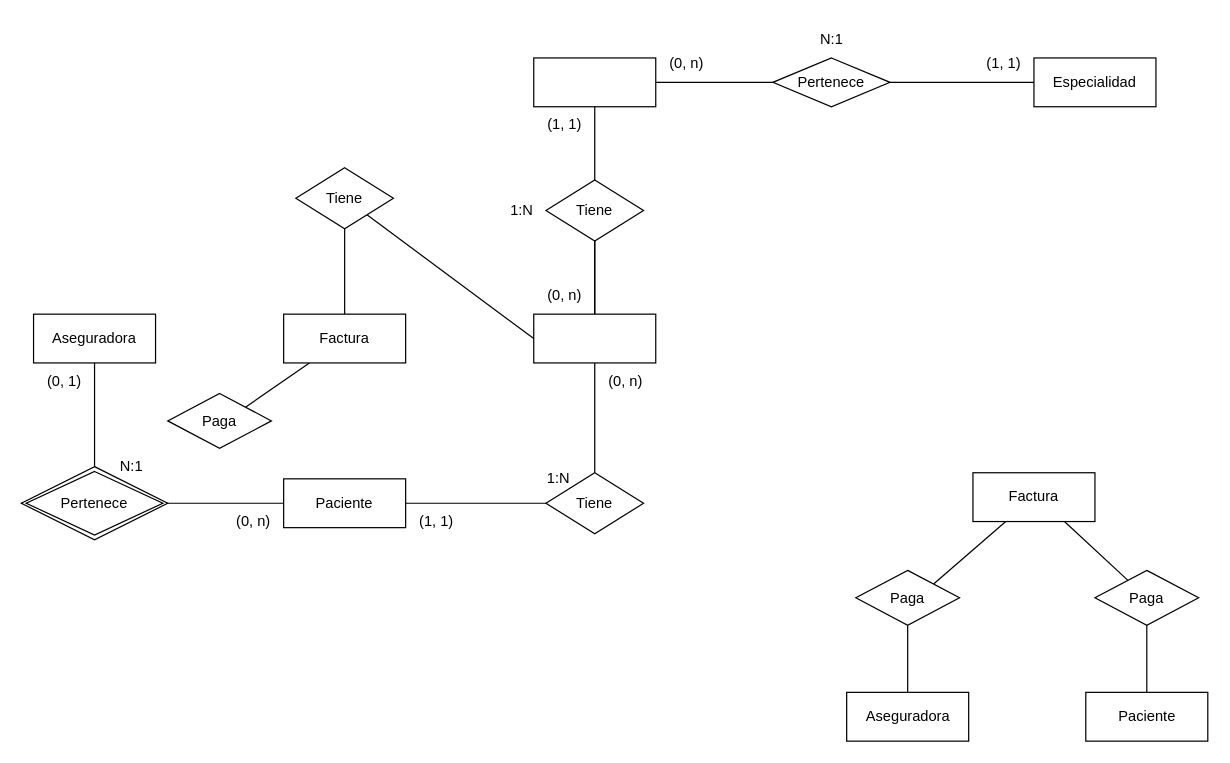
The diagram is 1230 pixels wide and 763 high, and some of its shapes have lost their labels. Each missing label, with the centre of its shape:
Cita: [594,338]
Doctor: [594,82]
